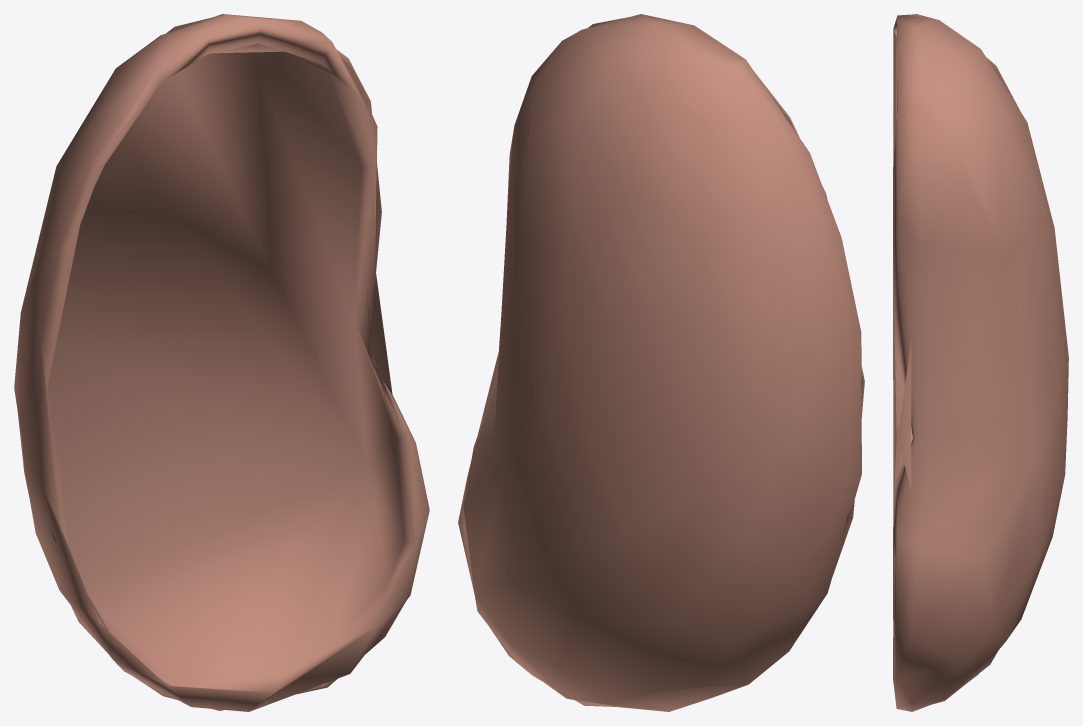
3 renders of one model, left to right at view 1: azimuth 30°, elevation 25°; view 2: azimuth 150°, elevation 25°; view 3: azimuth 270°, elevation 25°, orthographic. The views are drawn at different scales.
Parts seen in each view (by area): view 1: LOD 3_14591652872871216962_a1e5460f9667e624384844bb77a670e0; view 2: LOD 3_14591652872871216962_a1e5460f9667e624384844bb77a670e0; view 3: LOD 3_14591652872871216962_a1e5460f9667e624384844bb77a670e0.
Boxes of the visible parts, x1,y1,x2,y2 form: LOD 3_14591652872871216962_a1e5460f9667e624384844bb77a670e0: [14, 14, 429, 711]; LOD 3_14591652872871216962_a1e5460f9667e624384844bb77a670e0: [458, 14, 864, 711]; LOD 3_14591652872871216962_a1e5460f9667e624384844bb77a670e0: [893, 14, 1068, 711].
Bounding box in the file's own units: 4.33 × 7.33 × 1.81.
